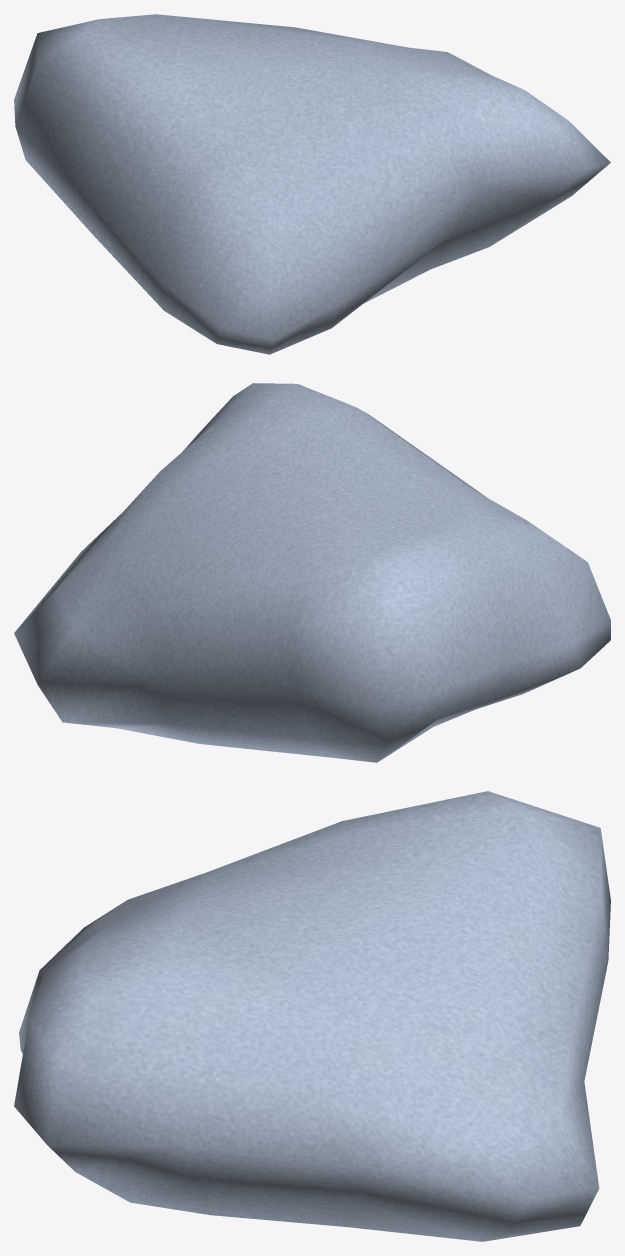
Rendered from frl_apartment_cushion_03.glb.
3 renders of one model, top to bottom at view 1: azimuth 30°, elevation 25°; view 2: azimuth 150°, elevation 25°; view 3: azimuth 270°, elevation 25°, orthographic. The views are drawn at different scales.
Visible parts, largest first — view 1: frl_apartment_cushion_03; view 2: frl_apartment_cushion_03; view 3: frl_apartment_cushion_03.
Boxes of the visible parts, box(x1,y1,x2,y2) form: frl_apartment_cushion_03: box(14, 14, 610, 354); frl_apartment_cushion_03: box(14, 383, 610, 762); frl_apartment_cushion_03: box(14, 791, 610, 1241).
Bounding box in the file's own units: 0.4404 × 0.2167 × 0.4226.
Materials: 1 (1 with a texture image).
